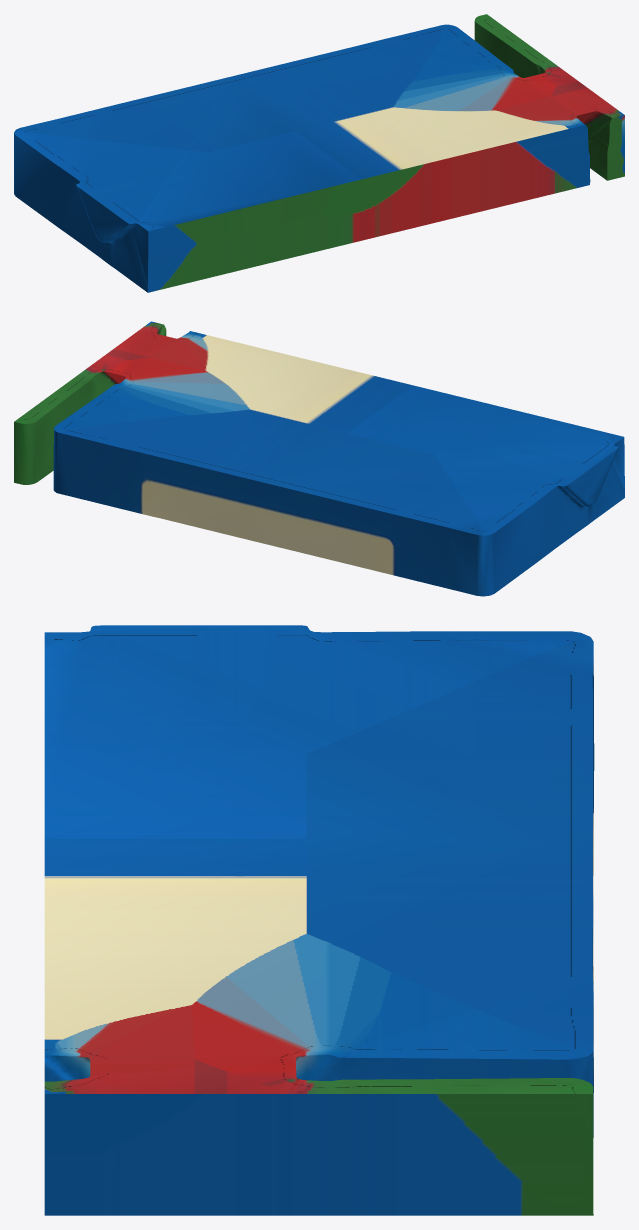
File: 11-roof-back-left.fbx
3 renders of one model, top to bottom at view 1: azimuth 30°, elevation 25°; view 2: azimuth 150°, elevation 25°; view 3: azimuth 270°, elevation 25°, orthographic. The views are drawn at different scales.
Parts seen in each view (by area): view 1: roof-back-left; view 2: roof-back-left; view 3: roof-back-left.
Boxes of the visible parts, left/top/right/bottom form: roof-back-left: left=14, top=14, right=624, bottom=292; roof-back-left: left=14, top=321, right=624, bottom=596; roof-back-left: left=44, top=625, right=594, bottom=1215.
Bounding box in the file's own units: 6033 × 729 × 2980.
1 material, 1 textured.
